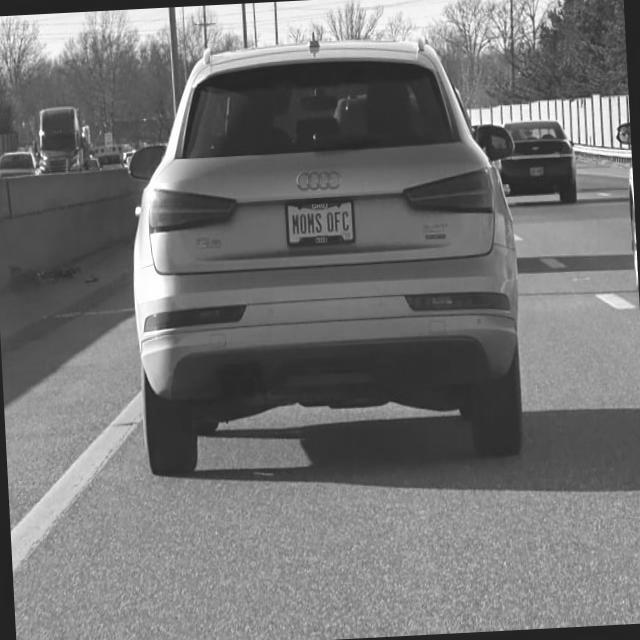LicensePlate: (285, 198, 357, 247)
